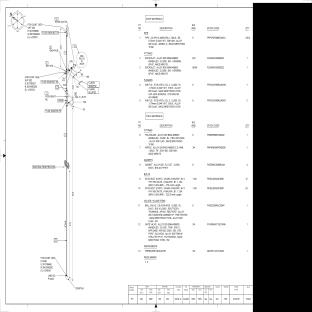flange: (65, 101, 68, 107), (65, 90, 68, 95), (65, 32, 68, 37)
valve: (66, 93, 69, 101)
